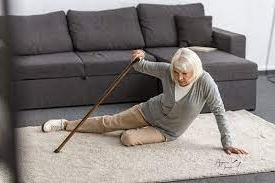fall: (38, 44, 249, 156)
